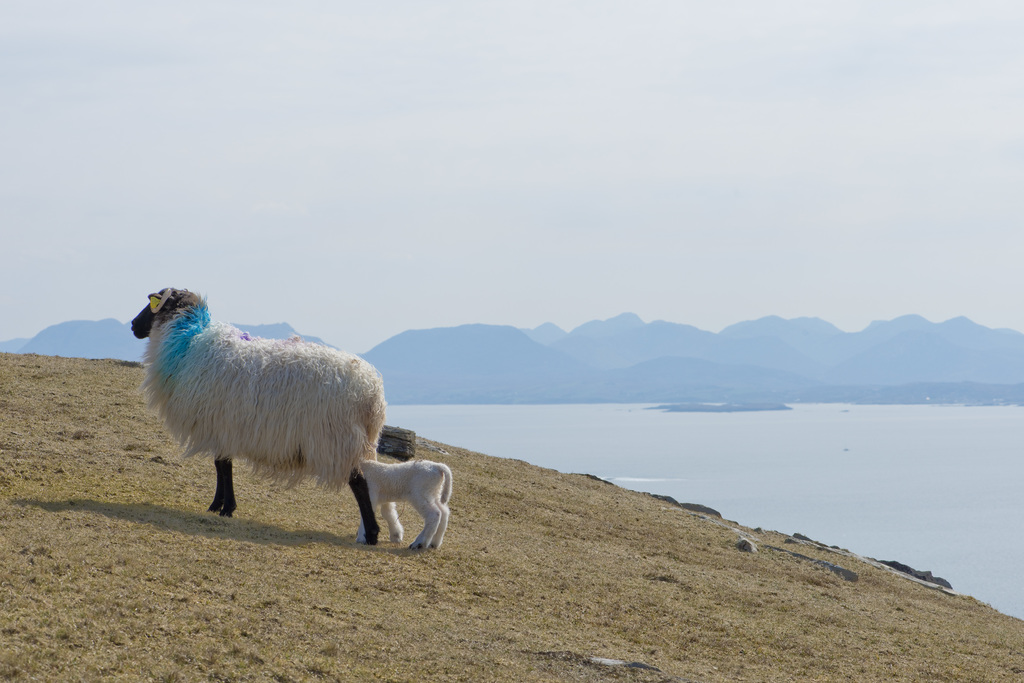sheep: (128, 284, 384, 539)
